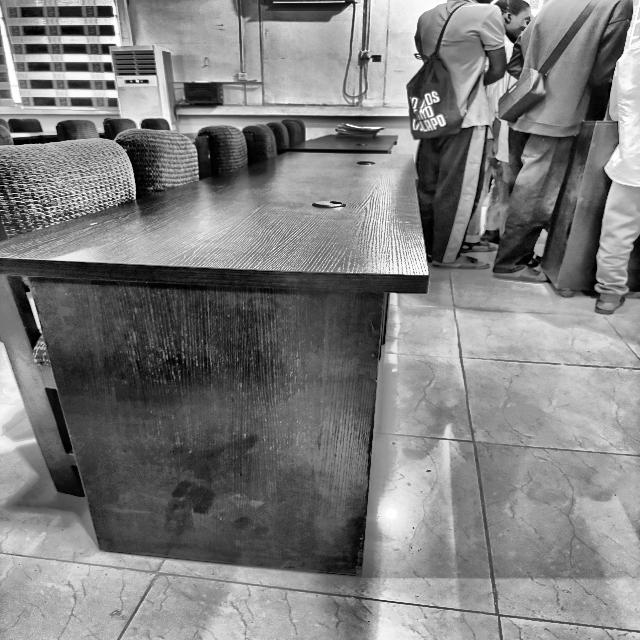table: (0, 241, 527, 584)
